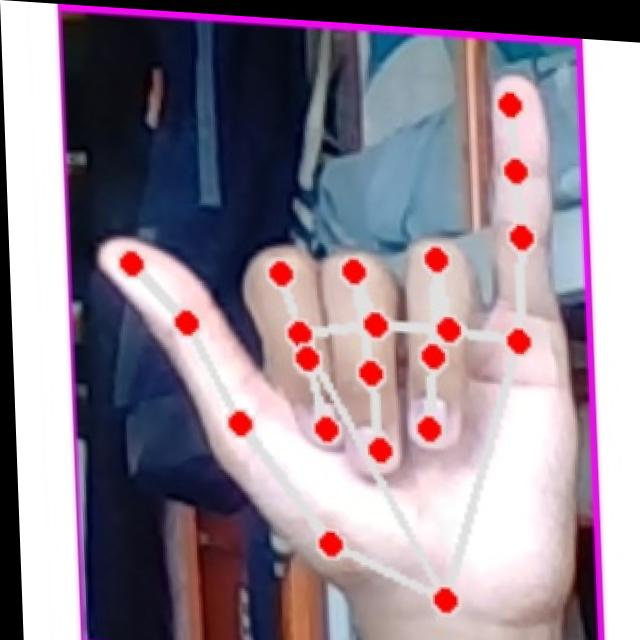Y: (88, 41, 578, 616)
